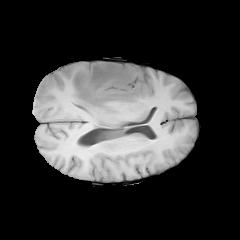glioma: (71, 61, 144, 114)
